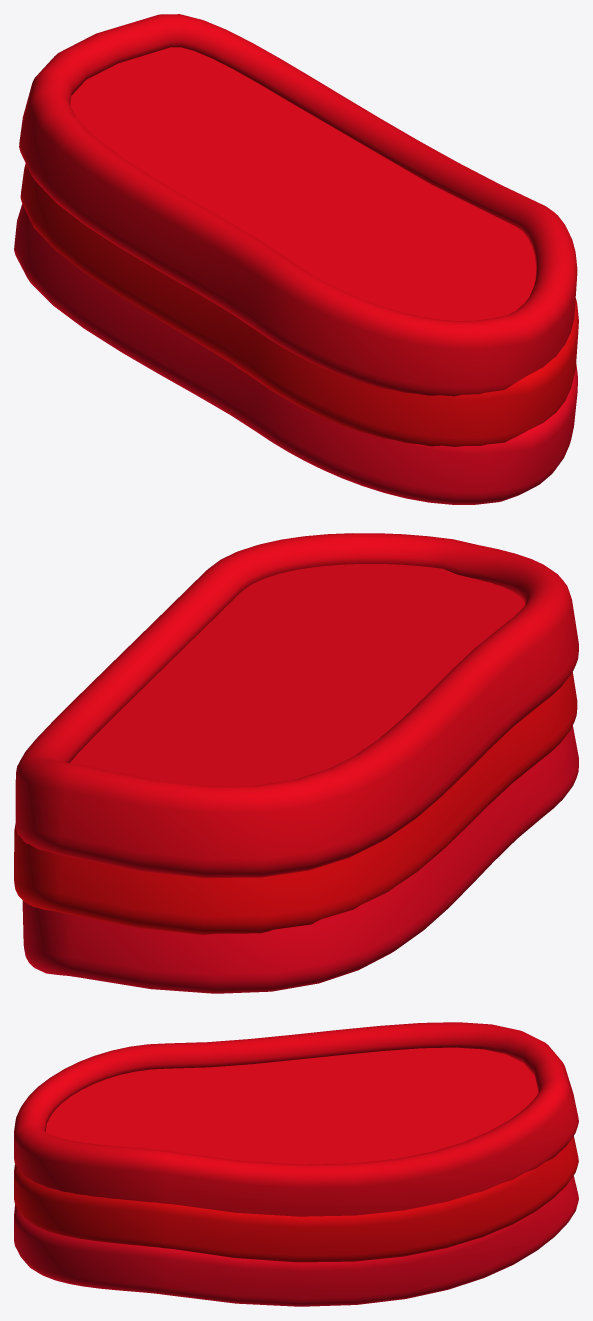
The model's file is pool-red.glb.
3 views of the same model, one above another, from view 1: azimuth 30°, elevation 25°; view 2: azimuth 150°, elevation 25°; view 3: azimuth 270°, elevation 25° (orthographic). The views are drawn at different scales.
Visible parts, largest first — view 1: BezierCircle, BezierCircle.002, BezierCircle.001; view 2: BezierCircle, BezierCircle.002, BezierCircle.001; view 3: BezierCircle, BezierCircle.001, BezierCircle.002.
Part boxes in pixels (box(x1,y1,x2,y2)): BezierCircle: box(19, 14, 577, 396); BezierCircle.002: box(14, 204, 577, 504); BezierCircle.001: box(20, 163, 578, 446); BezierCircle: box(15, 533, 578, 877); BezierCircle.002: box(22, 725, 578, 993); BezierCircle.001: box(14, 672, 577, 934); BezierCircle: box(14, 1022, 578, 1216); BezierCircle.001: box(14, 1136, 578, 1262); BezierCircle.002: box(14, 1175, 578, 1306).
Bounding box in the file's own units: 3.83 × 2.56 × 7.12.
